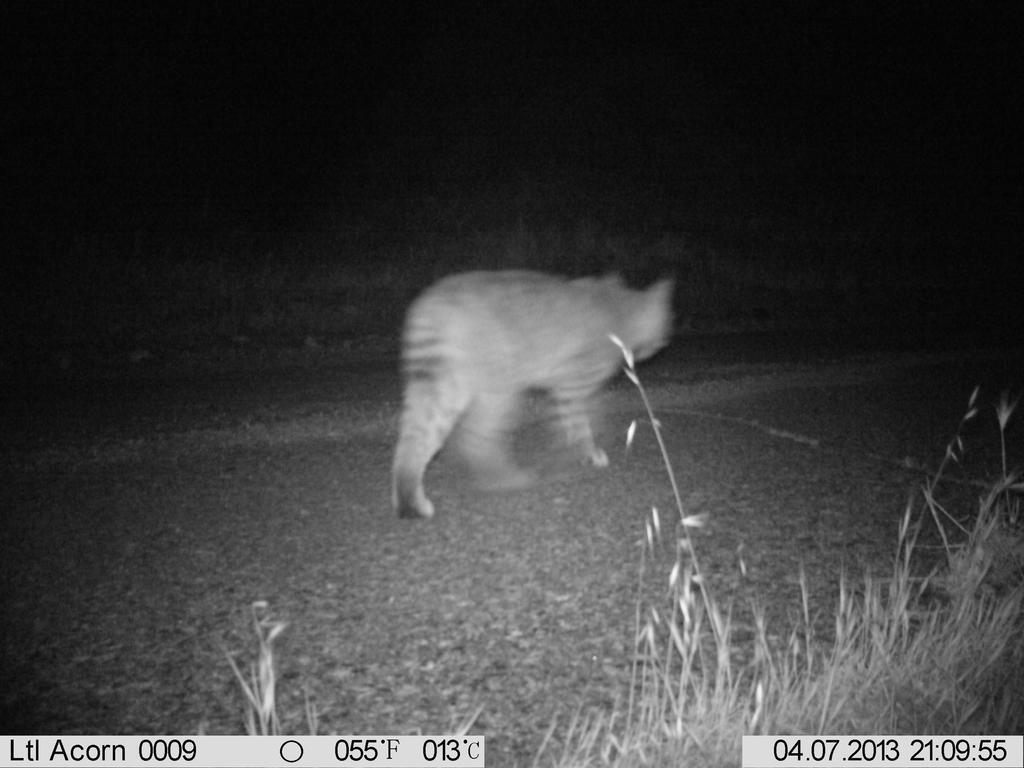bobcat: (385, 259, 689, 535)
